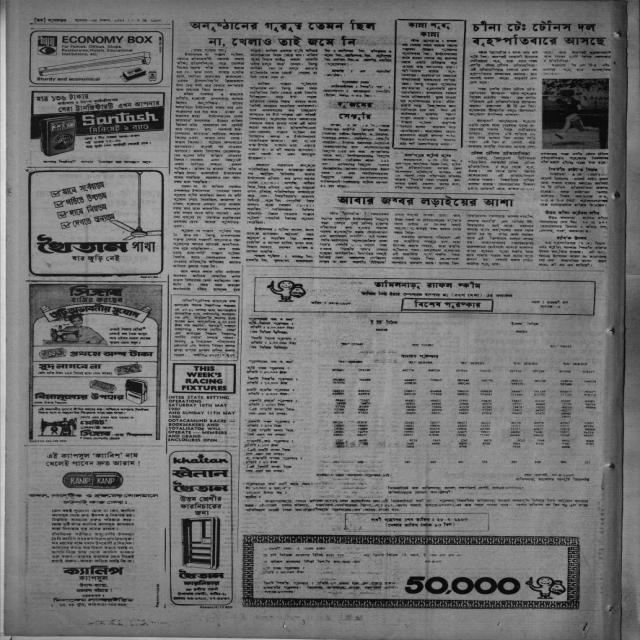advertisement: (239, 266, 607, 615), (26, 445, 167, 614), (28, 283, 163, 444), (27, 169, 165, 280), (27, 90, 168, 168), (168, 449, 234, 606), (29, 30, 164, 86), (170, 362, 238, 394)
image: (541, 78, 612, 150)
paragraph: (173, 91, 244, 184), (399, 37, 459, 147), (247, 81, 318, 160), (319, 123, 391, 189), (246, 163, 316, 225), (317, 209, 391, 266), (172, 297, 237, 359), (465, 213, 535, 267), (167, 395, 236, 443), (175, 48, 245, 92), (172, 184, 242, 228), (172, 228, 242, 269), (468, 49, 540, 86), (467, 155, 537, 192), (539, 172, 609, 208), (394, 157, 463, 191), (391, 235, 461, 267), (249, 48, 318, 80), (467, 118, 536, 150), (468, 87, 538, 117), (537, 240, 608, 268), (246, 227, 315, 254), (171, 269, 242, 292), (391, 212, 462, 235), (323, 48, 393, 68), (538, 215, 609, 234), (322, 80, 392, 99), (542, 62, 612, 77), (540, 151, 610, 166), (541, 49, 613, 63), (244, 253, 315, 264), (324, 68, 392, 78)
text: (33, 17, 165, 24), (198, 605, 234, 609)
title: (185, 18, 379, 48), (470, 19, 608, 49), (334, 194, 517, 208), (405, 21, 452, 39), (336, 100, 374, 121), (542, 209, 600, 217), (467, 150, 532, 156), (547, 166, 599, 172), (403, 152, 452, 158), (553, 235, 589, 241)
